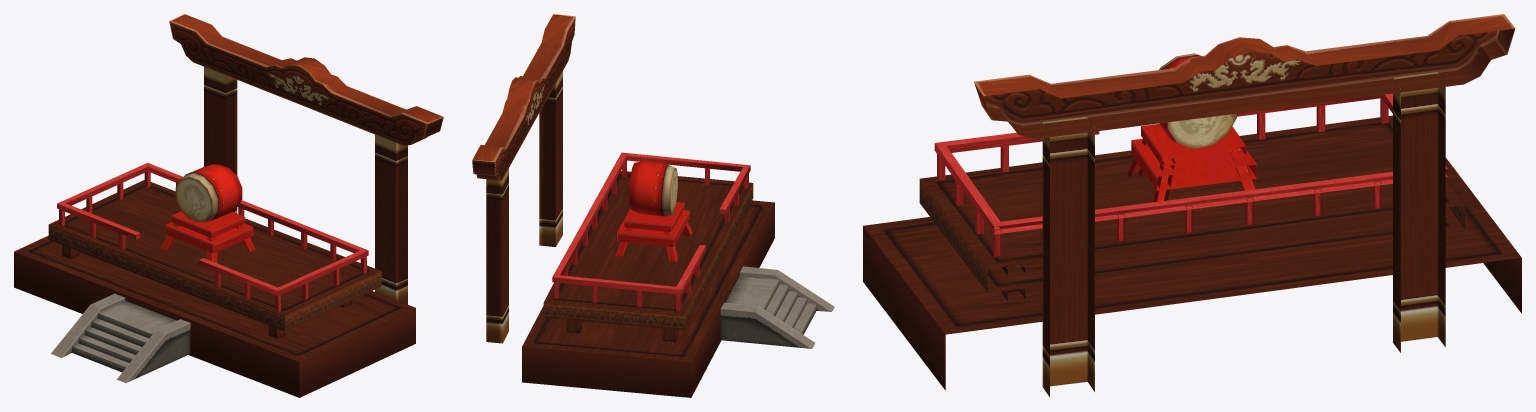
File: 3kui_map_drum.FBX
3 views of the same model, side by side, from view 1: azimuth 30°, elevation 25°; view 2: azimuth 150°, elevation 25°; view 3: azimuth 270°, elevation 25° (orthographic). The views are drawn at different scales.
Visible parts, largest first — view 1: 3kui_map_drum2, 3kui_map_drum001; view 2: 3kui_map_drum2, 3kui_map_drum001; view 3: 3kui_map_drum2, 3kui_map_drum001.
Part boxes in pixels (x1,y1,x2,y2): 3kui_map_drum2: (14,14,443,397); 3kui_map_drum001: (175,164,242,222); 3kui_map_drum2: (472,14,834,397); 3kui_map_drum001: (629,161,677,216); 3kui_map_drum2: (863,14,1521,397); 3kui_map_drum001: (1159,53,1237,148).
Bounding box in the file's own units: 2530 × 1595 × 2834.
